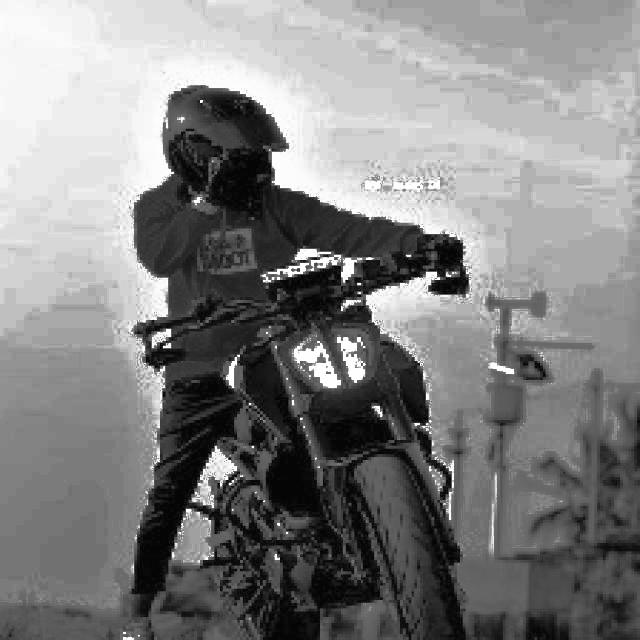Bike: (204, 279, 485, 640)
